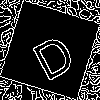D: (25, 25, 79, 83)
